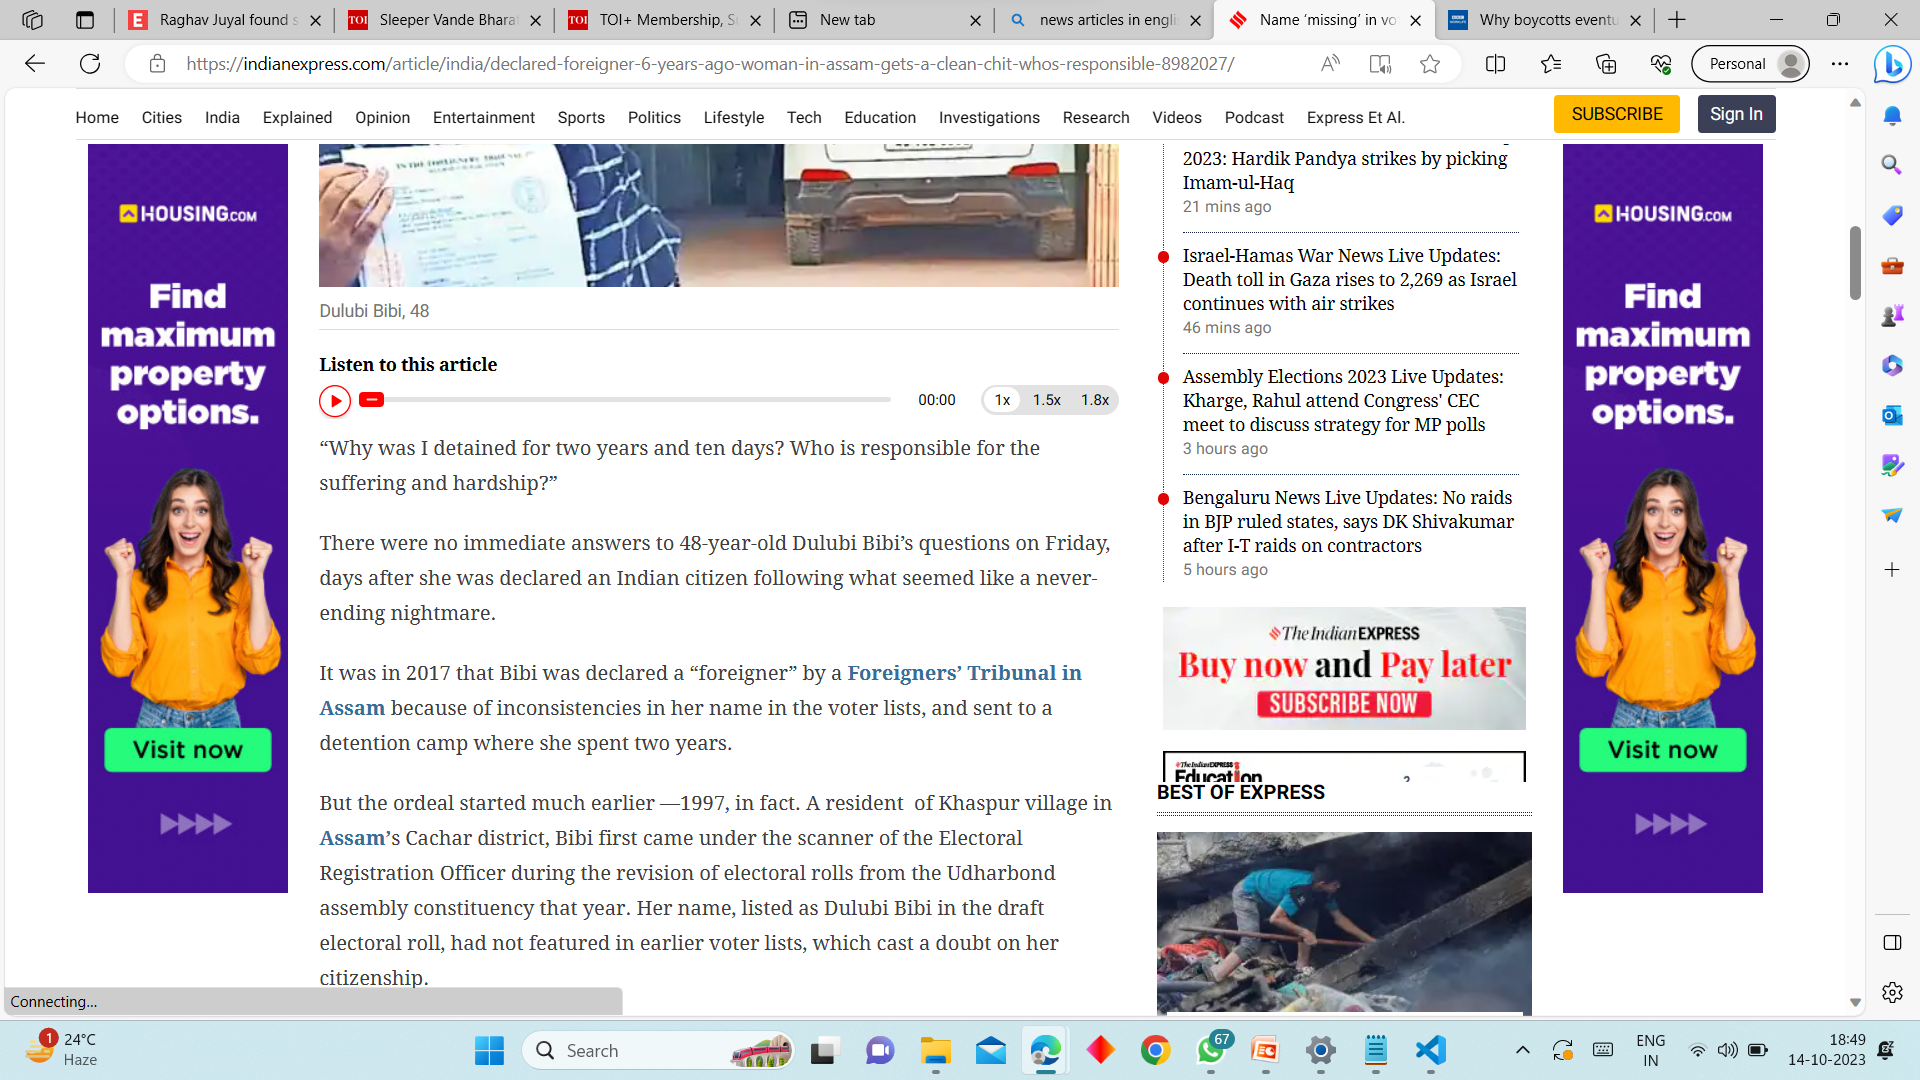Image: (87, 150, 293, 887), (1568, 145, 1758, 865), (1158, 832, 1532, 1010), (1164, 611, 1523, 727), (1552, 94, 1675, 129), (1708, 94, 1775, 135)
Paragraph: (305, 775, 1098, 986), (311, 653, 1093, 758), (315, 527, 1134, 620), (311, 431, 1051, 510), (1180, 473, 1527, 584), (1170, 244, 1536, 335), (1172, 363, 1516, 459), (1179, 145, 1516, 225), (293, 284, 444, 338), (309, 344, 518, 382), (427, 83, 543, 144), (1151, 771, 1350, 798), (932, 94, 1042, 136), (1044, 99, 1138, 145), (695, 94, 775, 138), (615, 90, 687, 138), (74, 90, 136, 145), (347, 83, 411, 136), (253, 96, 338, 136), (553, 87, 608, 145), (841, 100, 923, 138), (1141, 100, 1215, 141), (1302, 94, 1360, 141), (138, 94, 190, 145), (782, 100, 839, 145), (1221, 100, 1292, 136), (202, 83, 244, 138), (1370, 96, 1414, 135)
